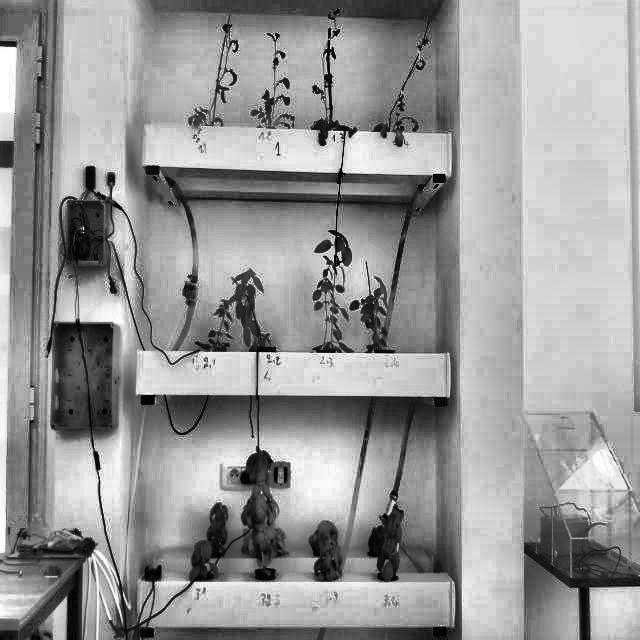plants: (373, 35, 434, 134), (241, 444, 284, 578), (310, 228, 355, 354), (310, 7, 355, 133), (186, 20, 239, 126), (248, 30, 296, 128), (228, 268, 280, 354), (348, 278, 394, 354), (310, 518, 344, 580), (198, 294, 232, 356), (374, 510, 402, 580), (186, 538, 217, 582), (206, 501, 229, 556), (368, 524, 396, 558)
